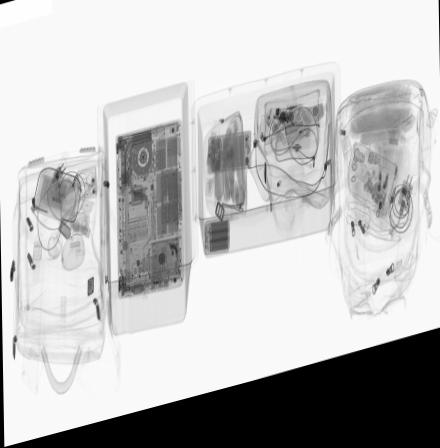Lighter: (286, 141, 311, 160)
